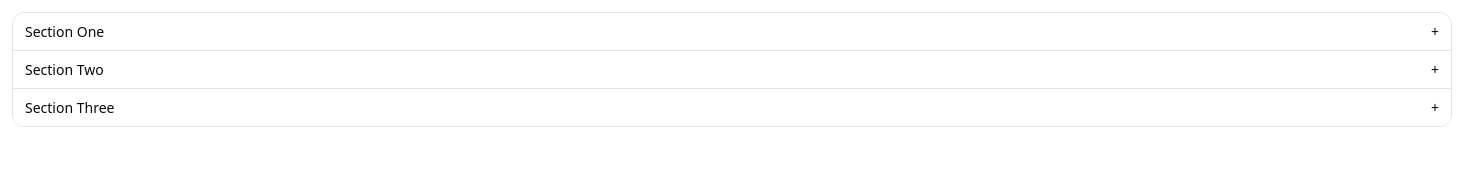
Scenario: Accordion › happy path › toggles open/closed on click with userEvent
Expected: the text "Content One" is not shown
Click the button "Section One +" at coordinates (65, 32), box [13,13,1451,50]
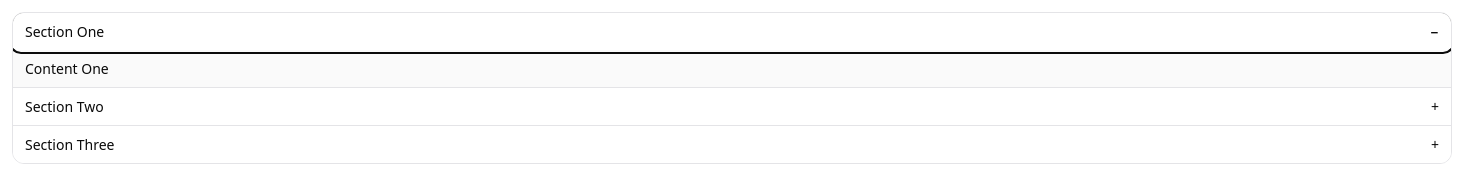
Expected: the text "Content One" is shown, [13,50,1451,87]
Expected: the button "Section One −" is expanded
Click the button "Section One −" at coordinates (65, 32), box [13,13,1451,50]
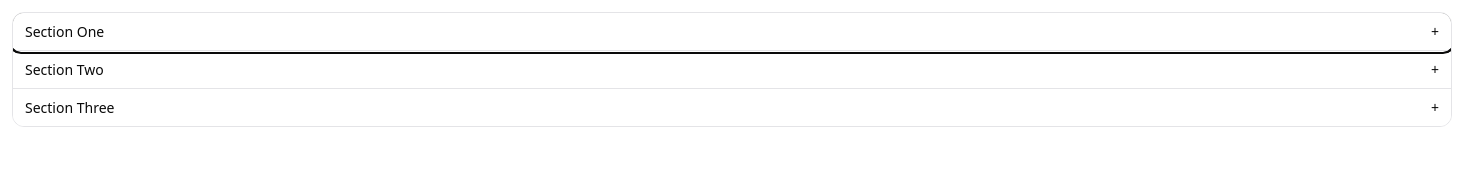
Expected: the text "Content One" is gone
Expected: the button "Section One +" is collapsed, [13,13,1451,50]
